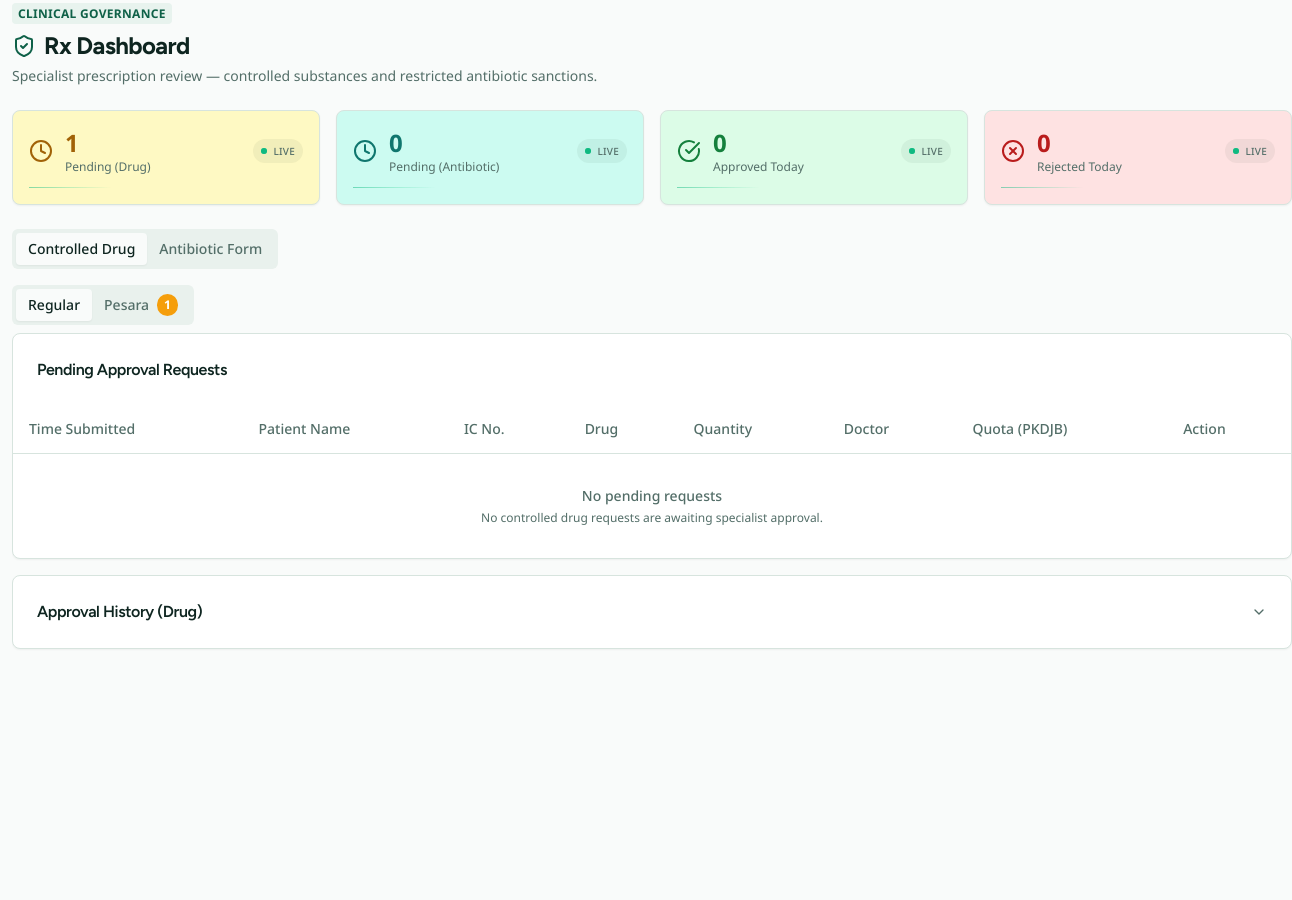
Test case: SpecialistDashboard › Controlled Drug sub-tabs › Pesara tab shows Unlimited badge for a Pesara request
// Switch to Pesara tab
Click the tab "Pesara 1" at (141, 305), box [92,288,190,322]
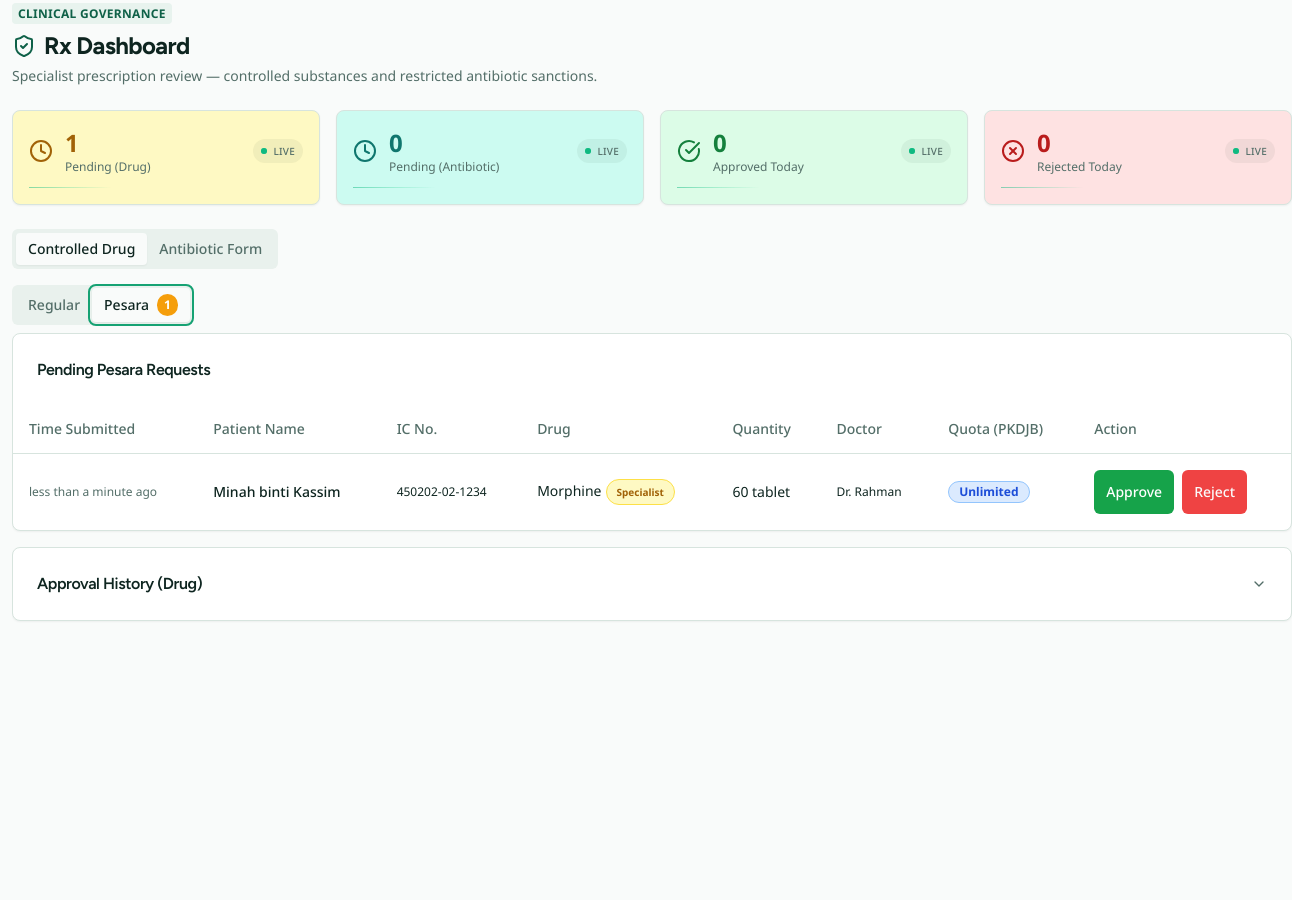
Check: the text "Unlimited" is shown, box [948,481,1030,503]
